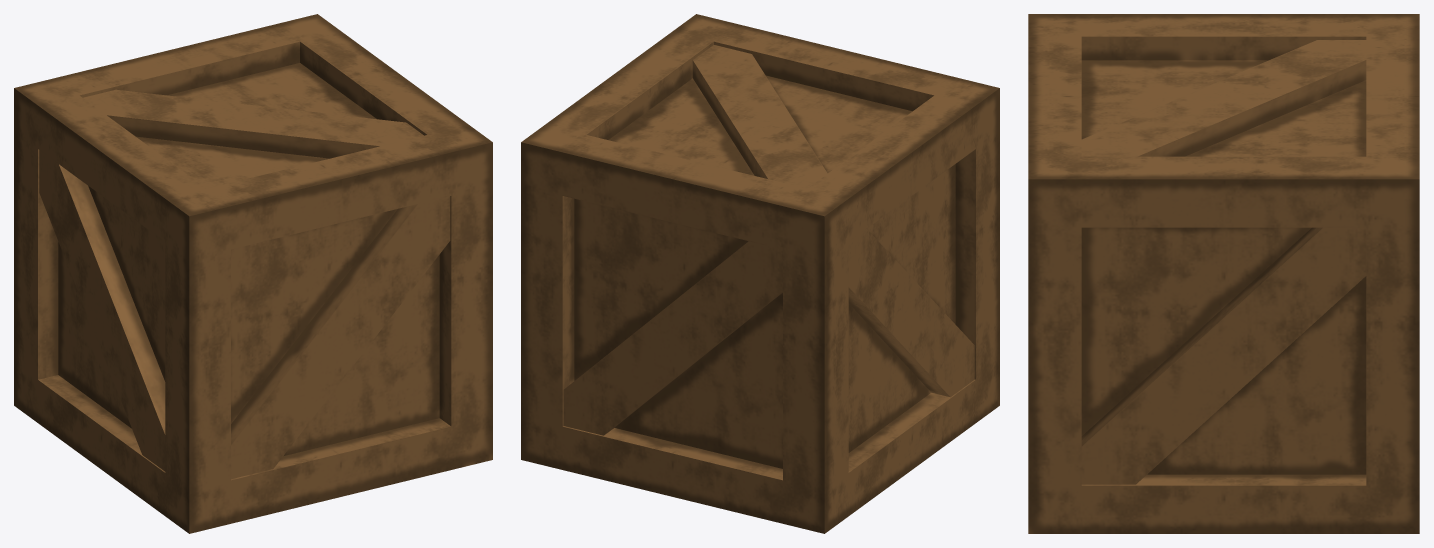
Rendered from crate.fbx.
3 views of the same model, side by side, from view 1: azimuth 30°, elevation 25°; view 2: azimuth 150°, elevation 25°; view 3: azimuth 270°, elevation 25° (orthographic). The views are drawn at different scales.
Visible parts, largest first — view 1: pCube35; view 2: pCube35; view 3: pCube35.
Boxes of the visible parts, left/top/right/bottom form: pCube35: left=14, top=14, right=492, bottom=533; pCube35: left=521, top=14, right=999, bottom=533; pCube35: left=1028, top=14, right=1419, bottom=533.
Size of the model in its own units: 183 by 183 by 183.
1 material, 1 textured.
